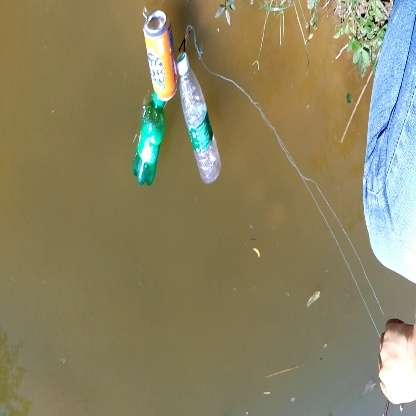milk-box: (177, 54, 229, 183), (126, 92, 171, 193)
